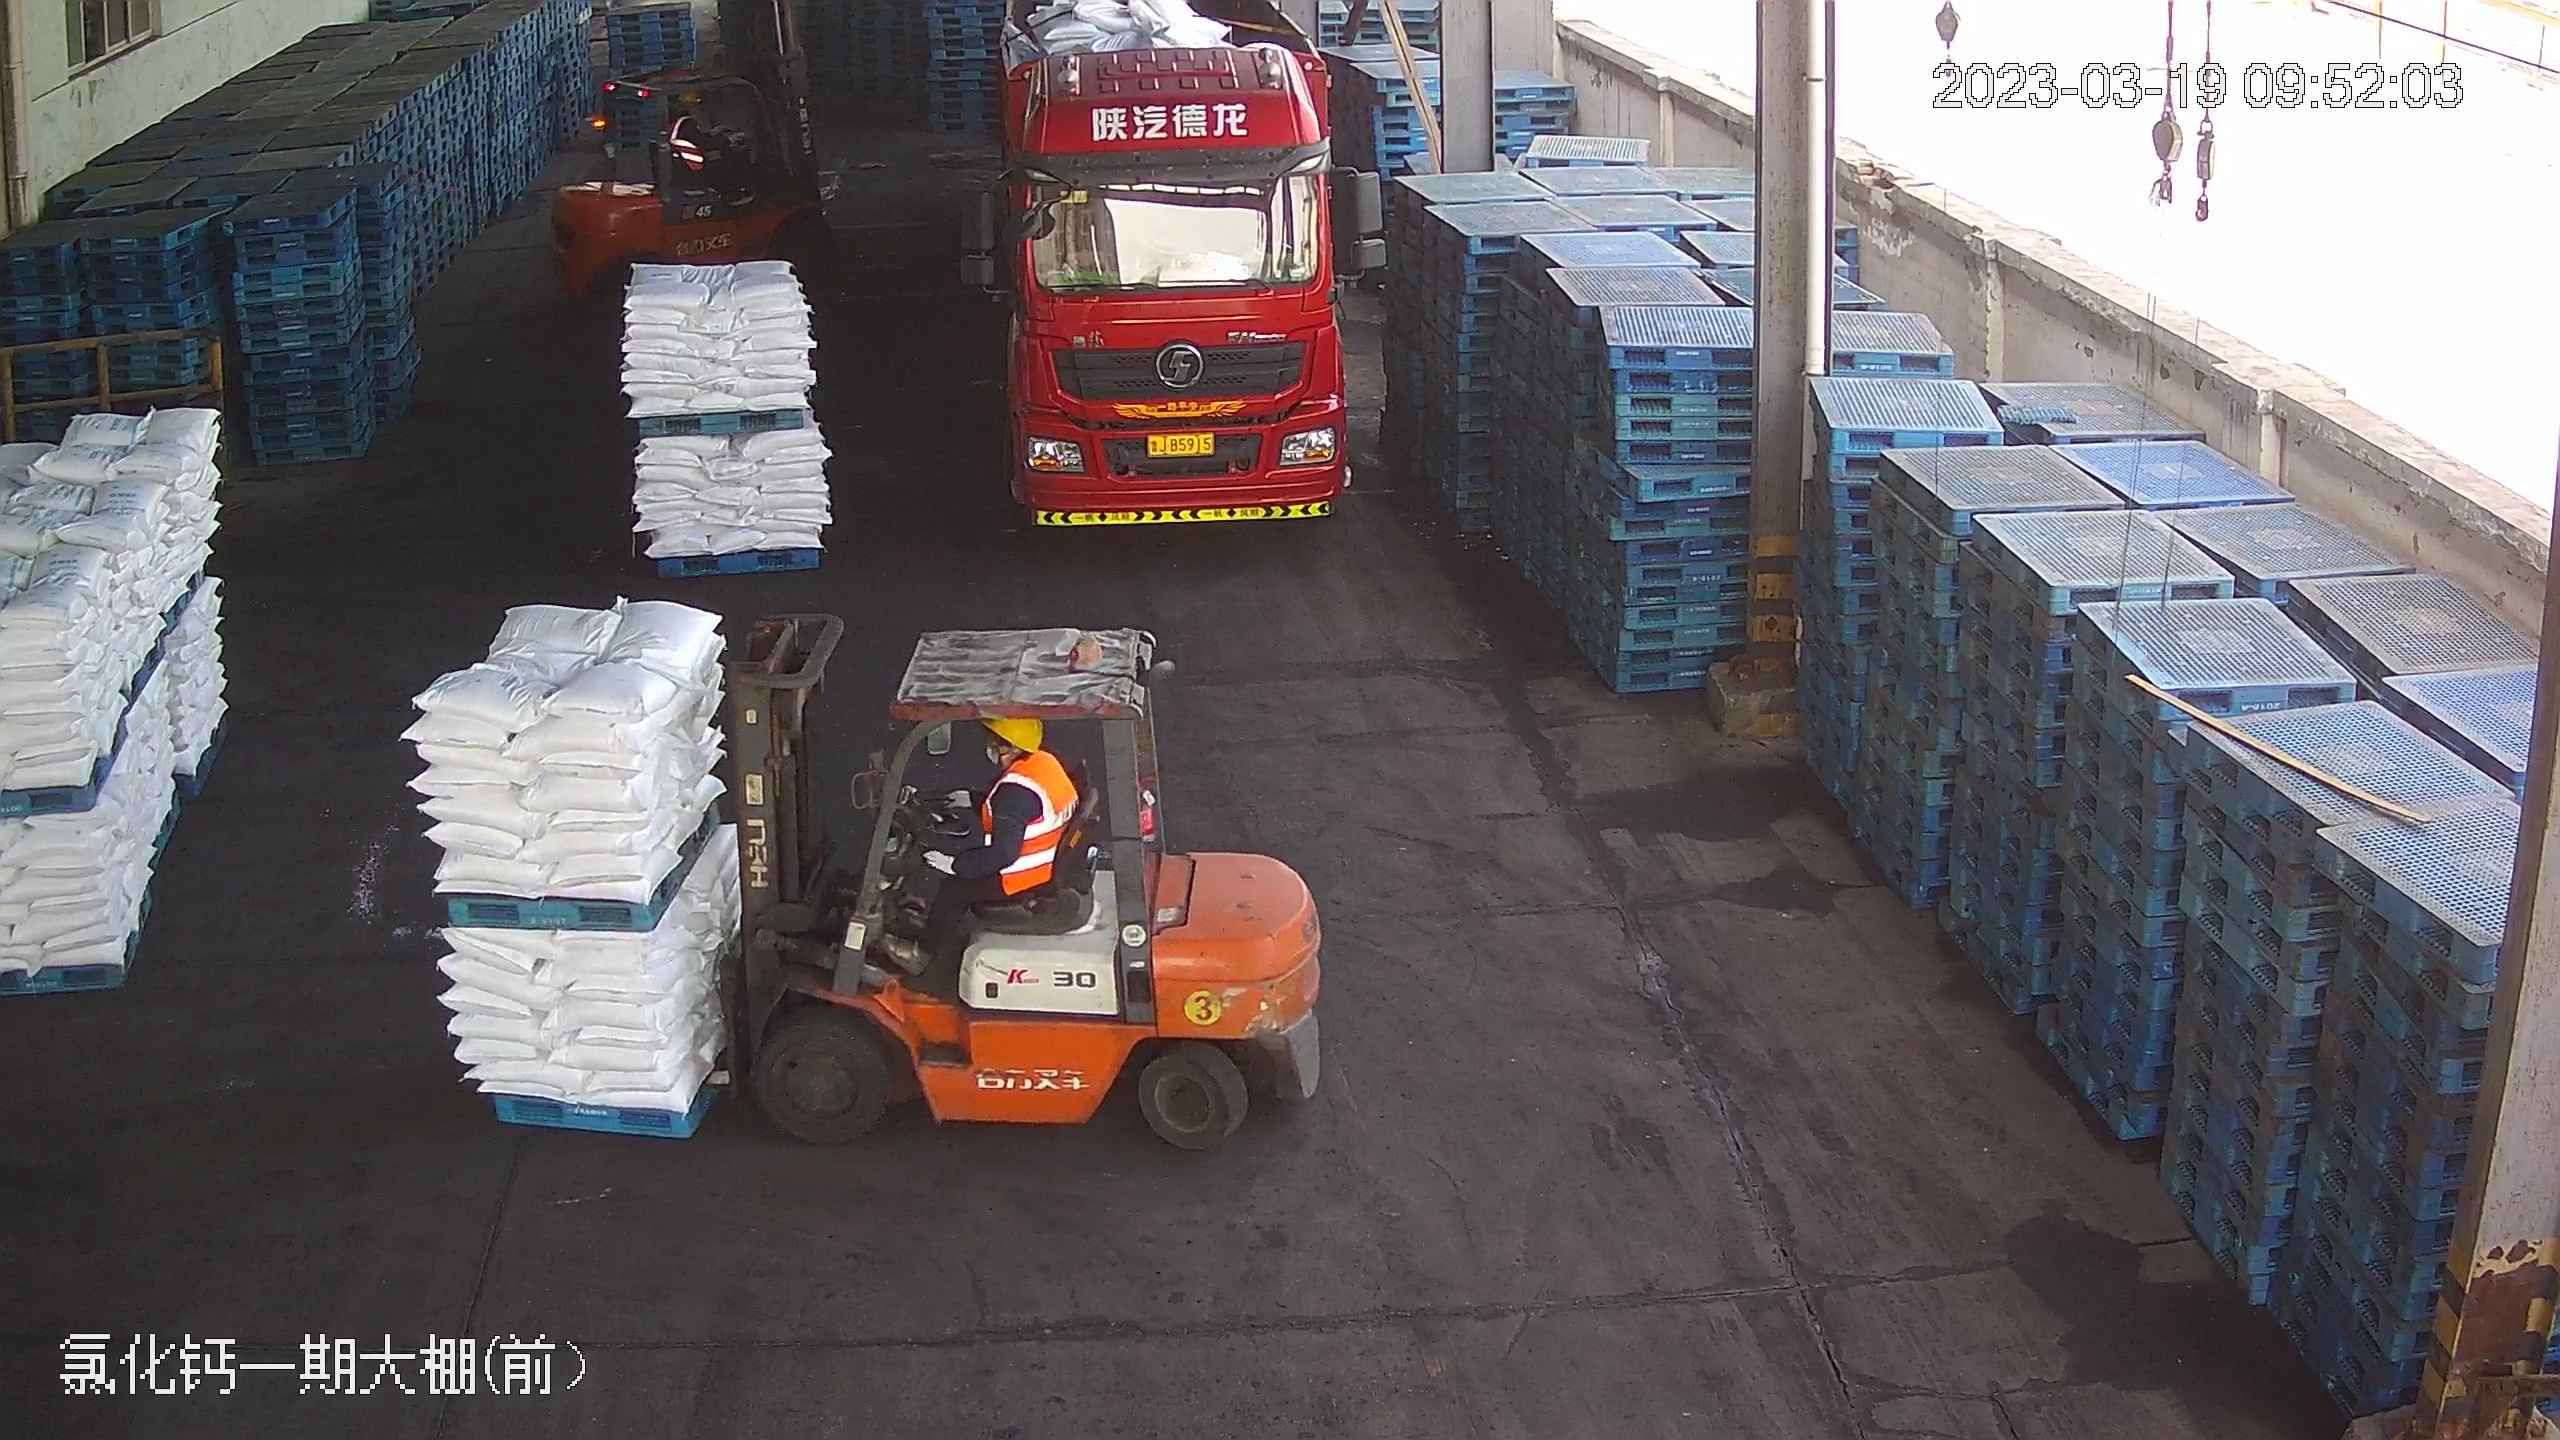head: (963, 711, 1065, 822), (666, 85, 712, 140)
helmet: (986, 711, 1041, 757), (677, 87, 700, 104)
people: (890, 709, 1074, 977), (661, 79, 752, 202)
truck: (981, 1, 1355, 526)
